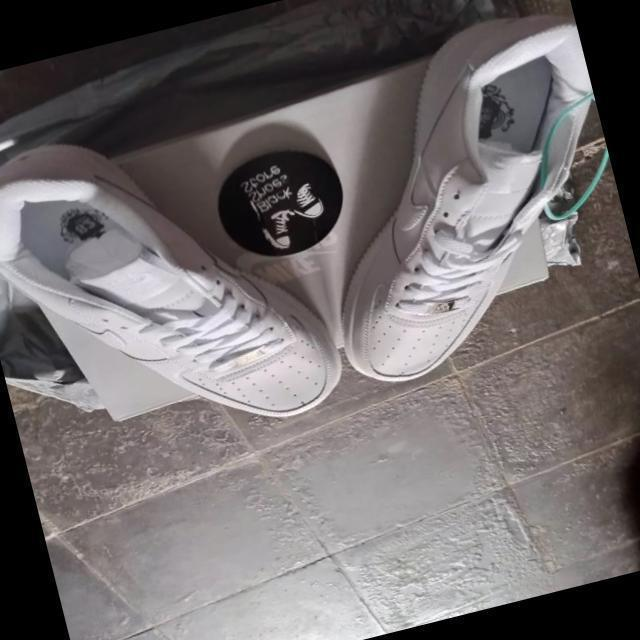nike fake air force: (273, 0, 640, 396), (0, 89, 353, 483)
